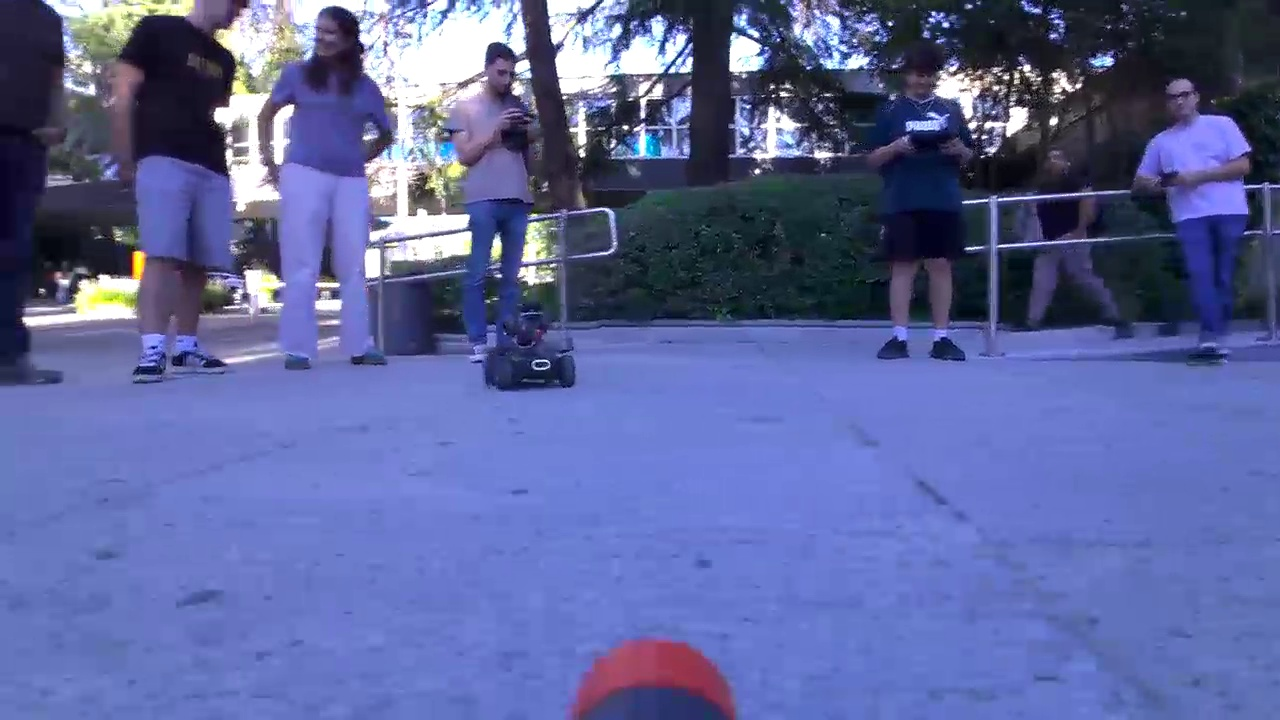robot: (480, 317, 581, 389)
